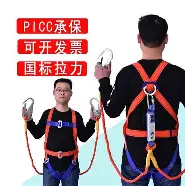safety belt: (114, 65, 182, 179), (41, 107, 80, 183)
